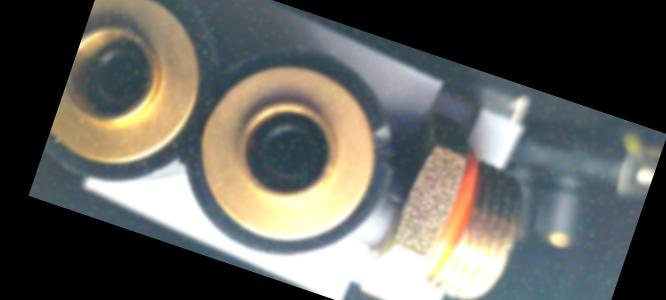bump: (360, 116, 409, 173)
white mark: (382, 191, 404, 208)
